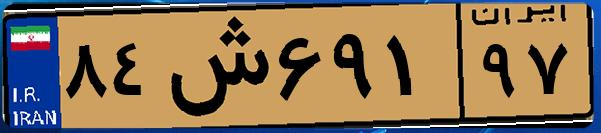1: (385, 28, 445, 110)
4: (110, 28, 158, 98)
6: (270, 28, 330, 110)
7: (525, 38, 570, 115)
8: (57, 26, 110, 100)
9: (330, 28, 385, 110), (475, 38, 525, 113)
ش: (158, 12, 270, 120)
